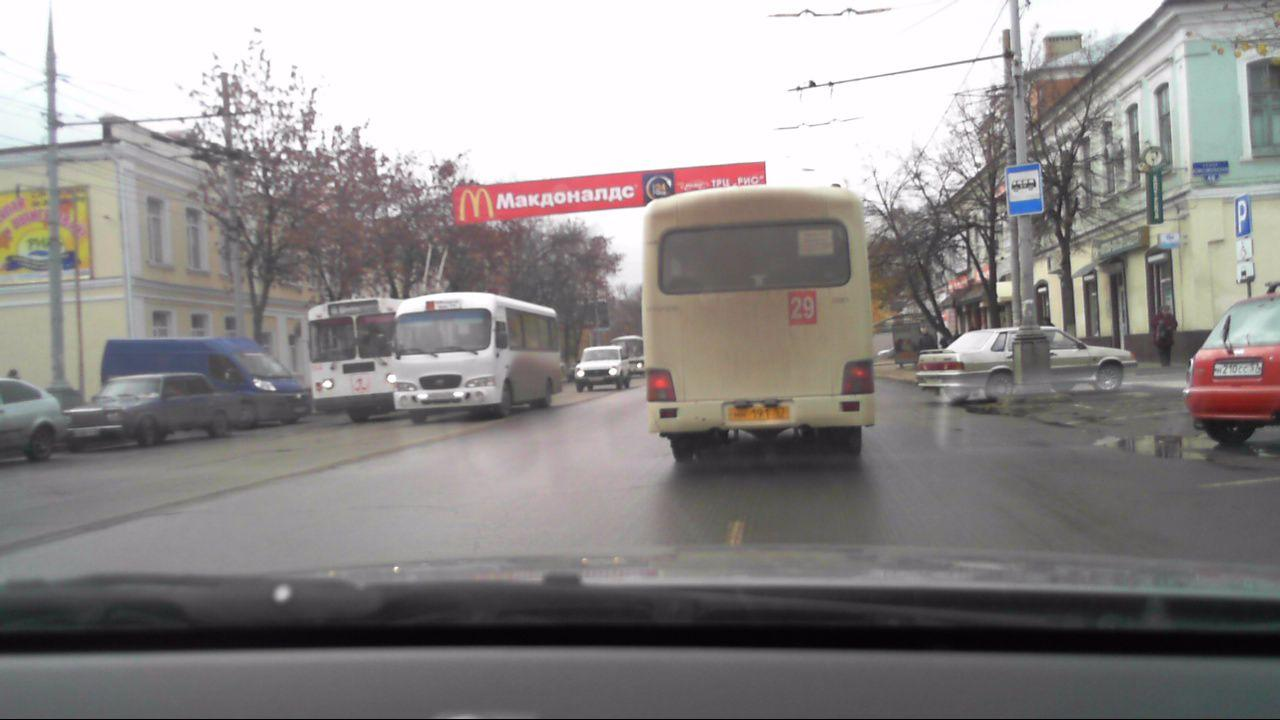5_16: (1003, 162, 1044, 215)
6_4: (1235, 193, 1253, 235)
8_17: (1236, 238, 1257, 261)
8_6_5: (1235, 262, 1256, 284)
